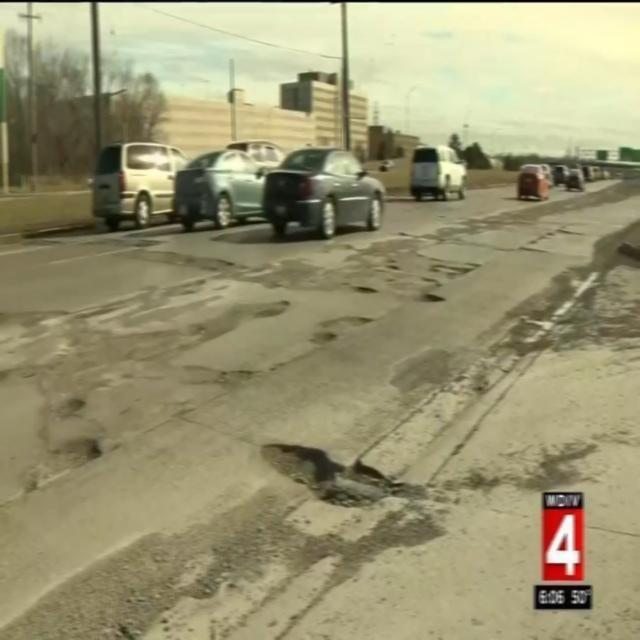Pothole: (249, 428, 414, 520), (0, 419, 109, 489), (169, 288, 291, 345), (297, 304, 378, 364), (501, 226, 588, 269), (336, 227, 448, 257), (406, 250, 489, 287), (370, 252, 413, 290), (33, 395, 87, 420), (409, 290, 456, 314), (343, 272, 378, 299)
